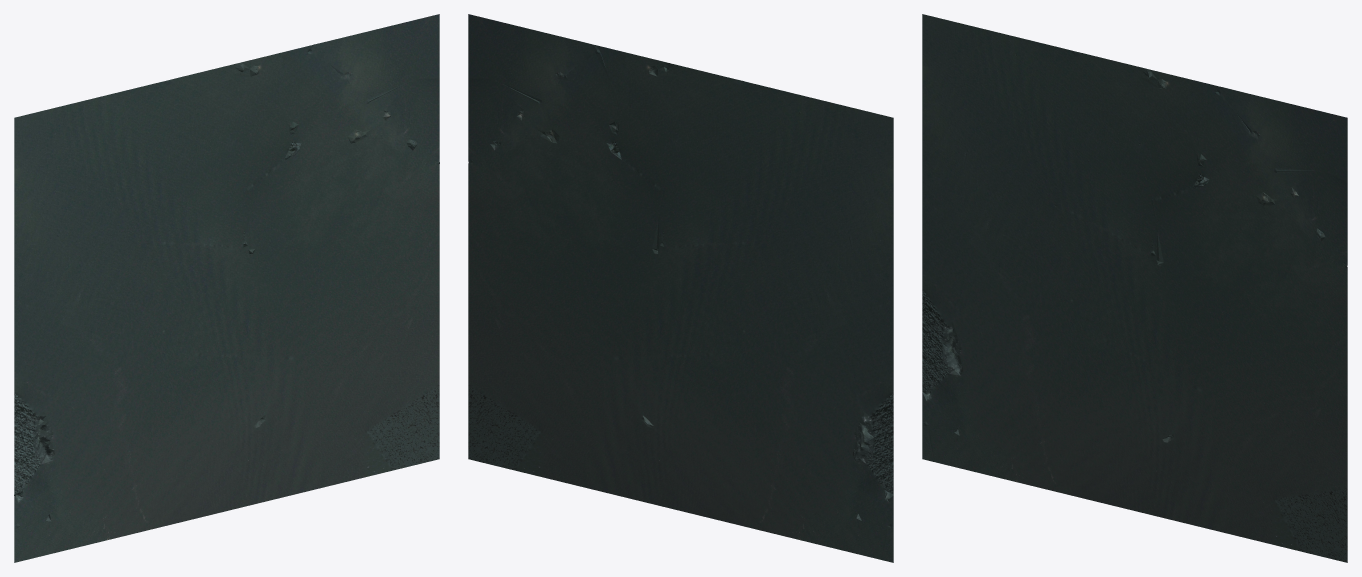
The model's file is Tile_+1996_+2686.obj.
3 views of the same model, side by side, from view 1: azimuth 30°, elevation 25°; view 2: azimuth 150°, elevation 25°; view 3: azimuth 330°, elevation 25° (orthographic).
Bounding box in the file's own units: 252 × 252 × 7.14.
Materials: 1 (1 with a texture image).
